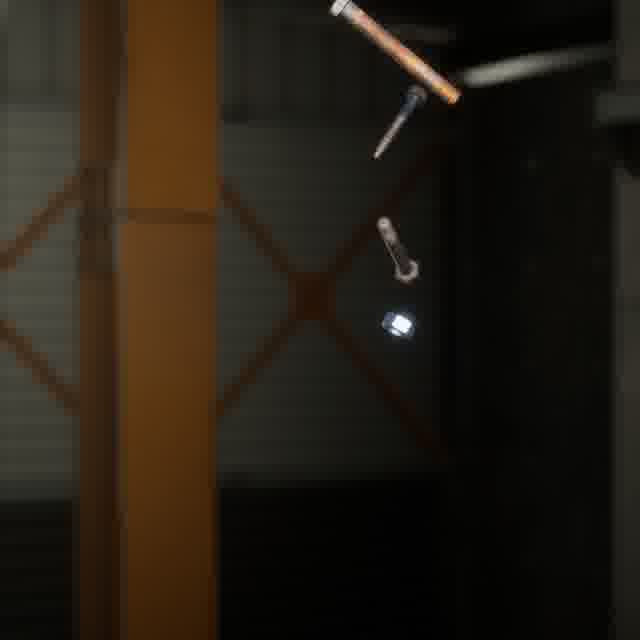bolt: (324, 0, 465, 109), (369, 81, 432, 163), (372, 212, 423, 289)
nut: (377, 308, 419, 343)
